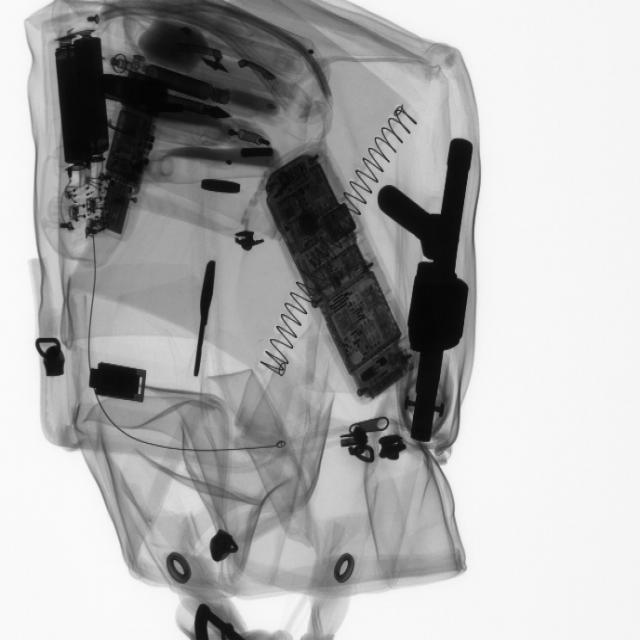GUN: (396, 134, 480, 451)
